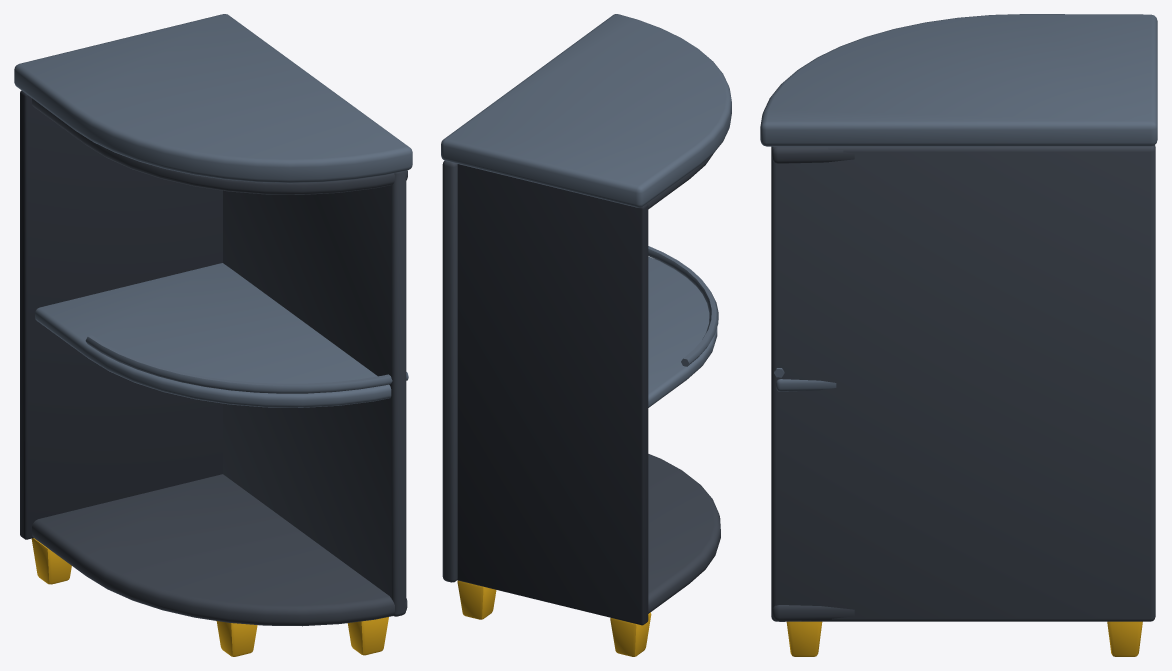
File: armario_cozinha_ponta_curva_grafite.glb
3 views of the same model, side by side, from view 1: azimuth 30°, elevation 25°; view 2: azimuth 150°, elevation 25°; view 3: azimuth 270°, elevation 25° (orthographic). The views are drawn at different scales.
Parts seen in each view (by area): view 1: armario_cozinha_ponta_curva_grafite; view 2: armario_cozinha_ponta_curva_grafite; view 3: armario_cozinha_ponta_curva_grafite.
Part boxes in pixels (x1,y1,x2,y2): armario_cozinha_ponta_curva_grafite: [14, 14, 412, 656]; armario_cozinha_ponta_curva_grafite: [441, 14, 731, 656]; armario_cozinha_ponta_curva_grafite: [760, 14, 1157, 656].
Size of the model in its own units: 0.4009 by 0.9 by 0.5973.
1 material, 1 textured.
